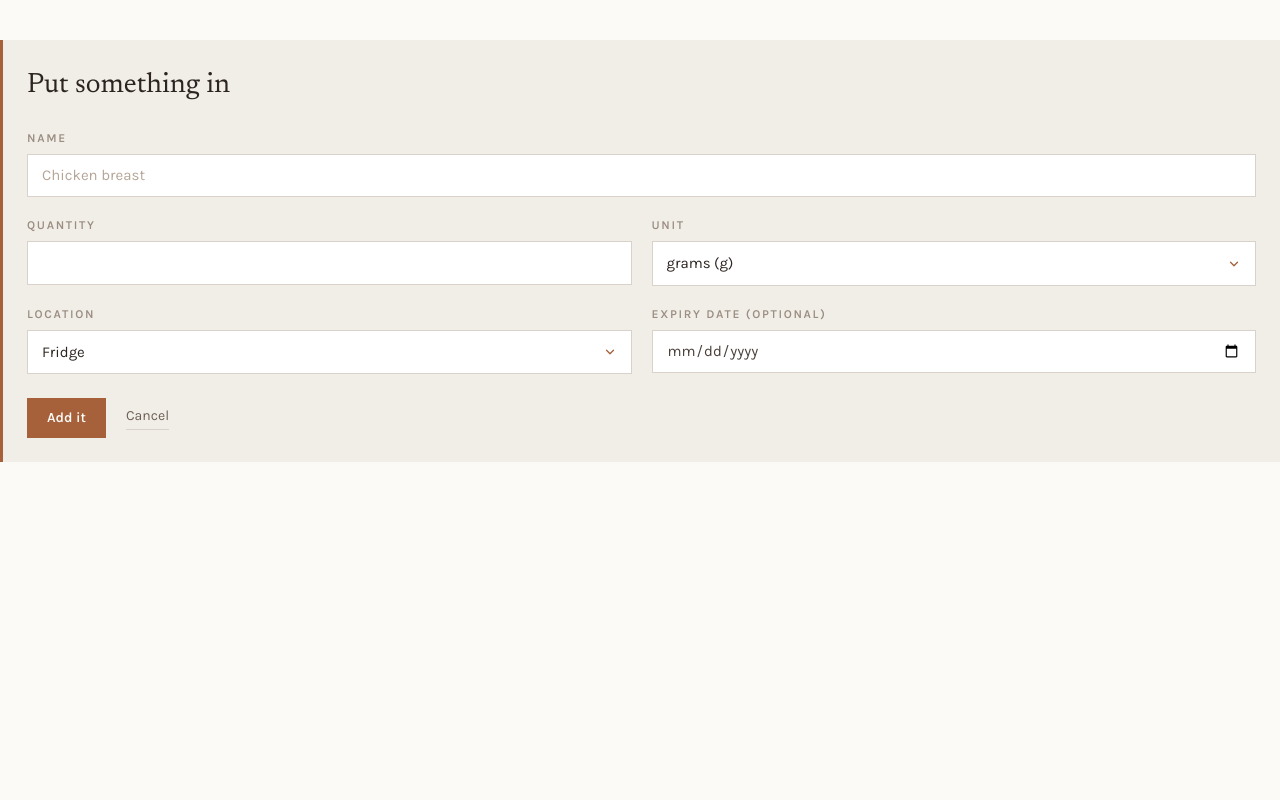
Test case: InventoryForm › carries the amount across a compatible unit change
Step 1. Type "600" into the number field labelled "Quantity" → (329, 263), box [27,241,632,285]
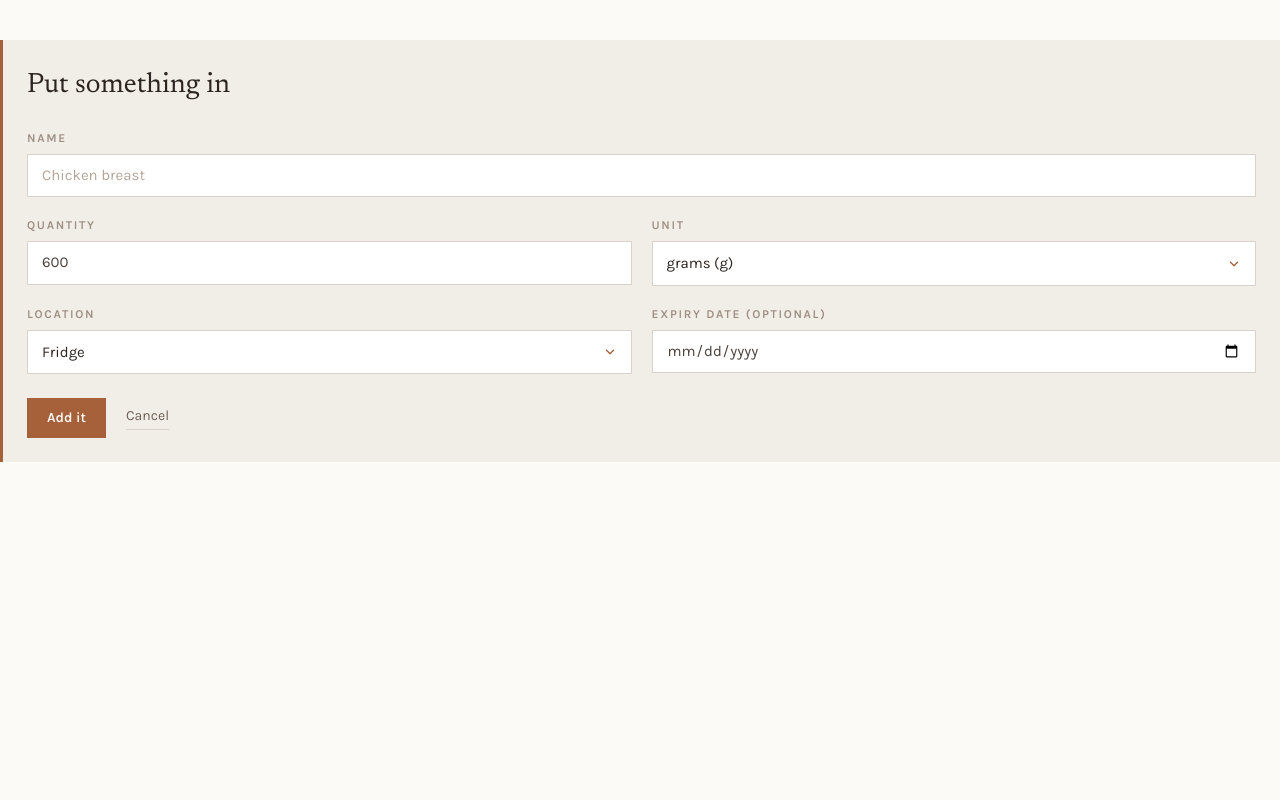
Step 2. Click the button with aria-label "Unit" → (700, 263), box [652,241,1256,286]
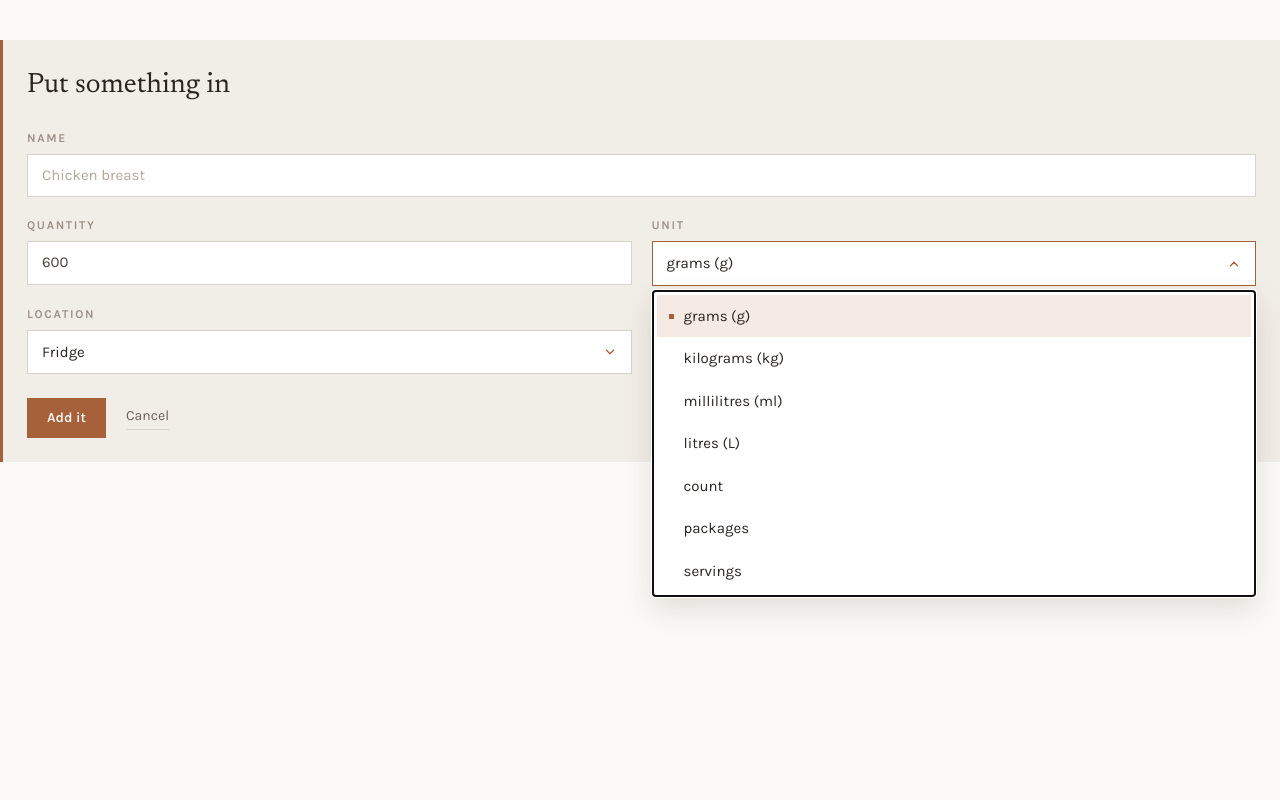
Step 3. Click the option "kilograms (kg)" → (734, 358), box [684,349,784,367]
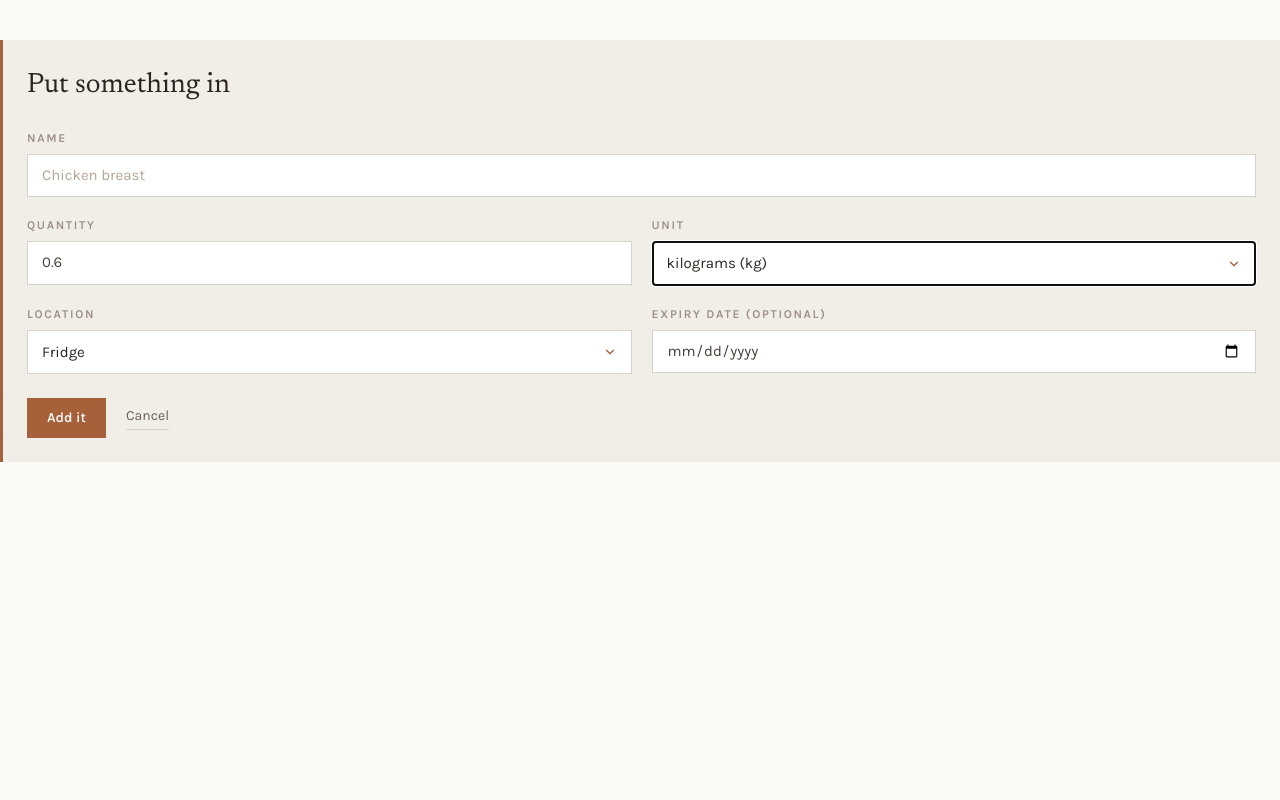
Result: the number field labelled "Quantity" holds "0.6" at [27,241,632,285]
